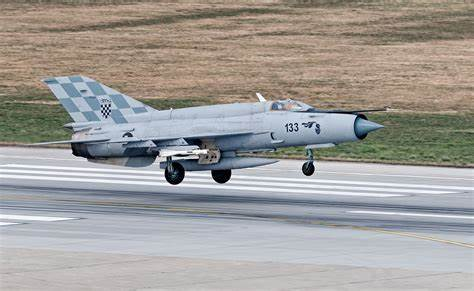Aeronef_militaire: (37, 73, 391, 191)
